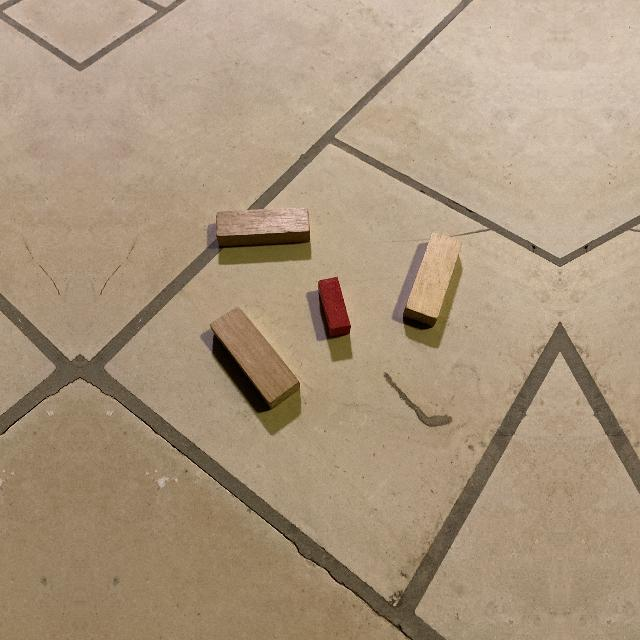jenga: (211, 307, 300, 408), (403, 233, 462, 327), (217, 208, 310, 249)
red block: (318, 277, 351, 339)
